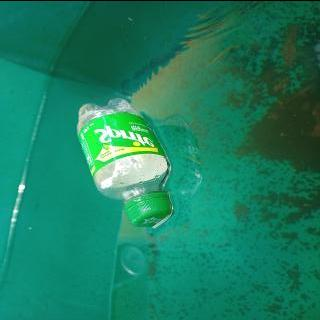bottle: (75, 96, 174, 226)
